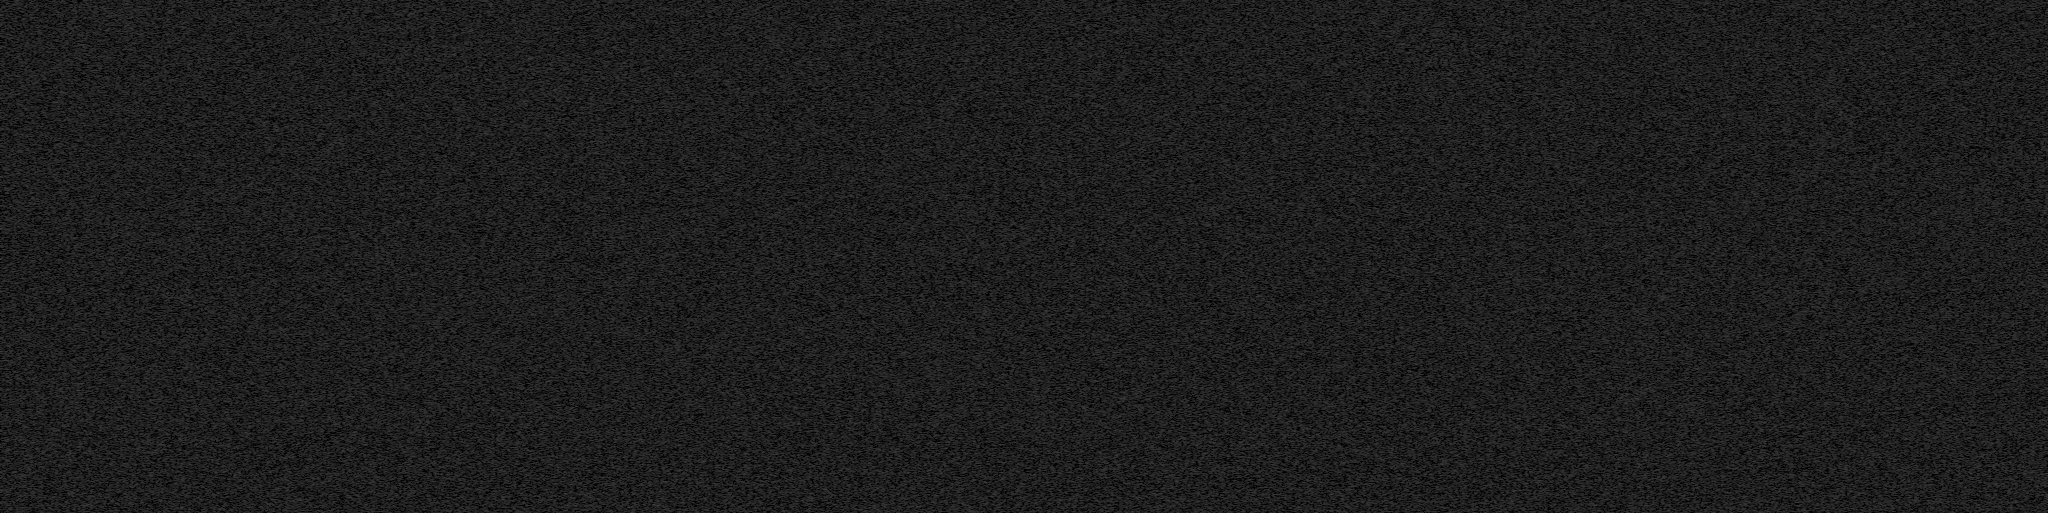wv_dvbt_8kfft: (1070, 0, 1906, 513)
wv_lsb: (1893, 50, 1896, 232), (1893, 269, 1896, 324), (1893, 330, 1896, 375), (1893, 234, 1896, 268), (1893, 3, 1896, 31), (1893, 375, 1896, 402), (1893, 33, 1896, 48), (1893, 415, 1896, 428), (1893, 432, 1896, 443), (1893, 462, 1896, 469), (1893, 453, 1896, 459), (1893, 406, 1896, 411), (1893, 325, 1896, 329), (1893, 487, 1896, 490), (1893, 480, 1896, 483), (1893, 449, 1896, 452)
wv_wbfm: (989, 0, 1010, 513)
